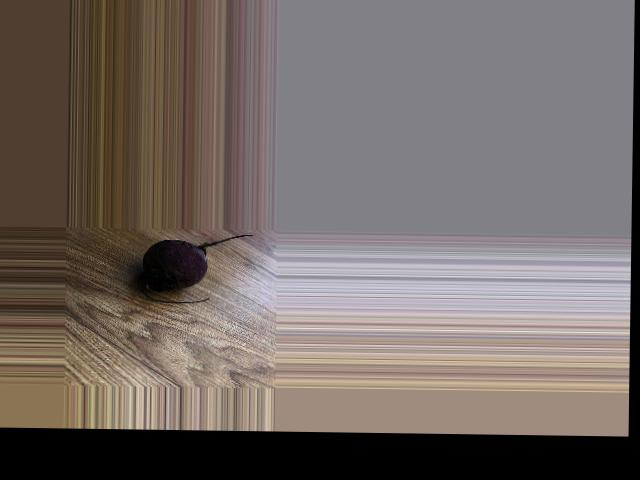beet: (139, 232, 253, 303)
